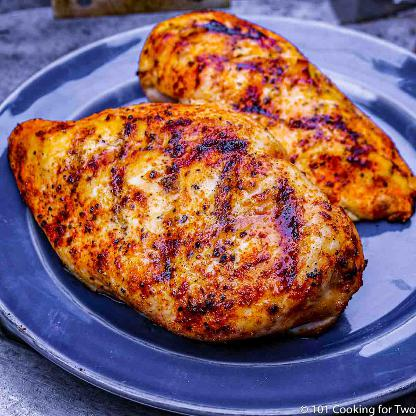grilled chicken breast: (9, 100, 367, 344), (140, 8, 416, 224)
